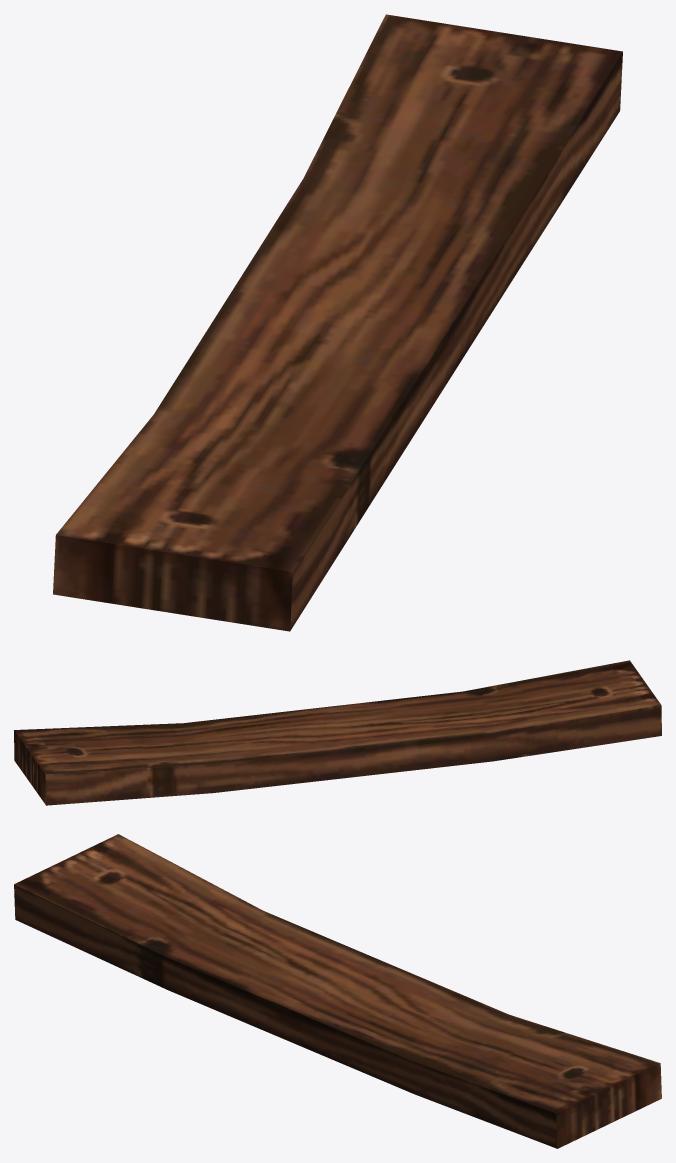
Rendered from OVERHILL_A_01_WOOD_BOARD_26.fbx.
3 views of the same model, one above another, from view 1: azimuth 30°, elevation 25°; view 2: azimuth 150°, elevation 25°; view 3: azimuth 270°, elevation 25° (orthographic). The views are drawn at different scales.
Visible parts, largest first — view 1: OVERHILL_A_01_WOOD_BOARD_26; view 2: OVERHILL_A_01_WOOD_BOARD_26; view 3: OVERHILL_A_01_WOOD_BOARD_26.
Boxes of the visible parts, <box> form: OVERHILL_A_01_WOOD_BOARD_26: <box>53,14,622,631</box>; OVERHILL_A_01_WOOD_BOARD_26: <box>14,660,661,805</box>; OVERHILL_A_01_WOOD_BOARD_26: <box>14,834,661,1148</box>.
Size of the model in its own units: 15429 by 1357 by 15429.
Materials: 1 (1 with a texture image).
